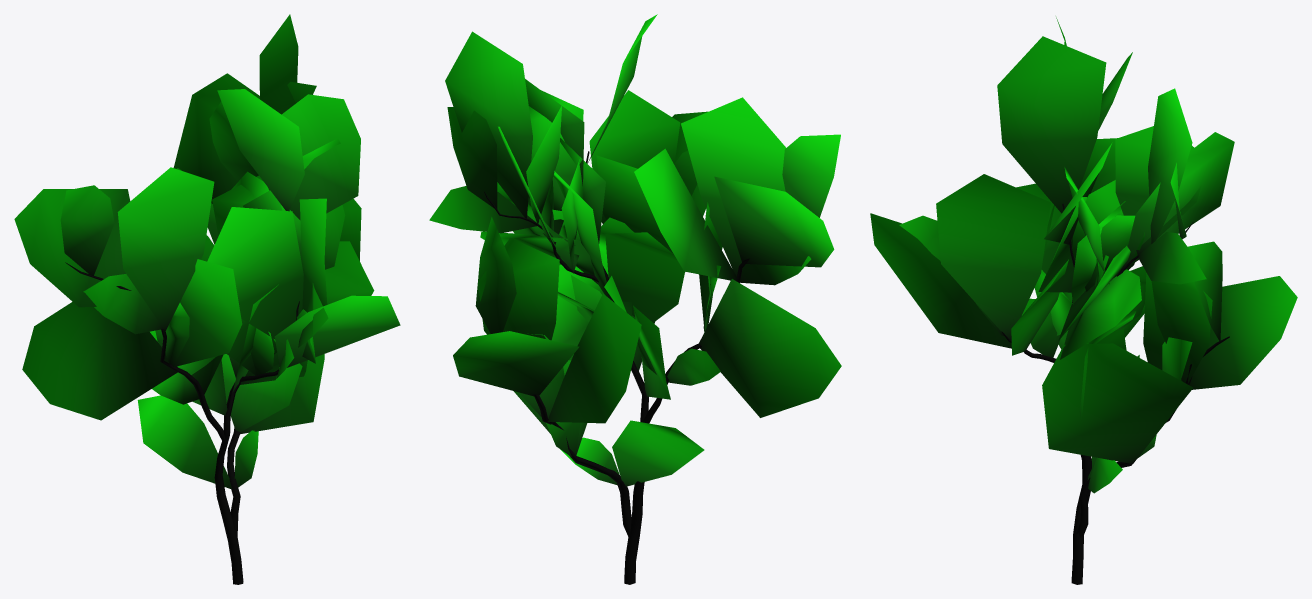
The model's file is Oak_Small_5.fbx.
The picture shows the model from 3 angles, left to right: view 1: azimuth 30°, elevation 25°; view 2: azimuth 150°, elevation 25°; view 3: azimuth 270°, elevation 25°; orthographic projection. The views are drawn at different scales.
Parts seen in each view (by area): view 1: Oak_Small_5; view 2: Oak_Small_5; view 3: Oak_Small_5.
Boxes of the visible parts, x1,y1,x2,y2 form: Oak_Small_5: (14, 14, 400, 584); Oak_Small_5: (429, 14, 841, 584); Oak_Small_5: (870, 17, 1297, 584).
Size of the model in its own units: 4.22 by 6.14 by 4.36.
